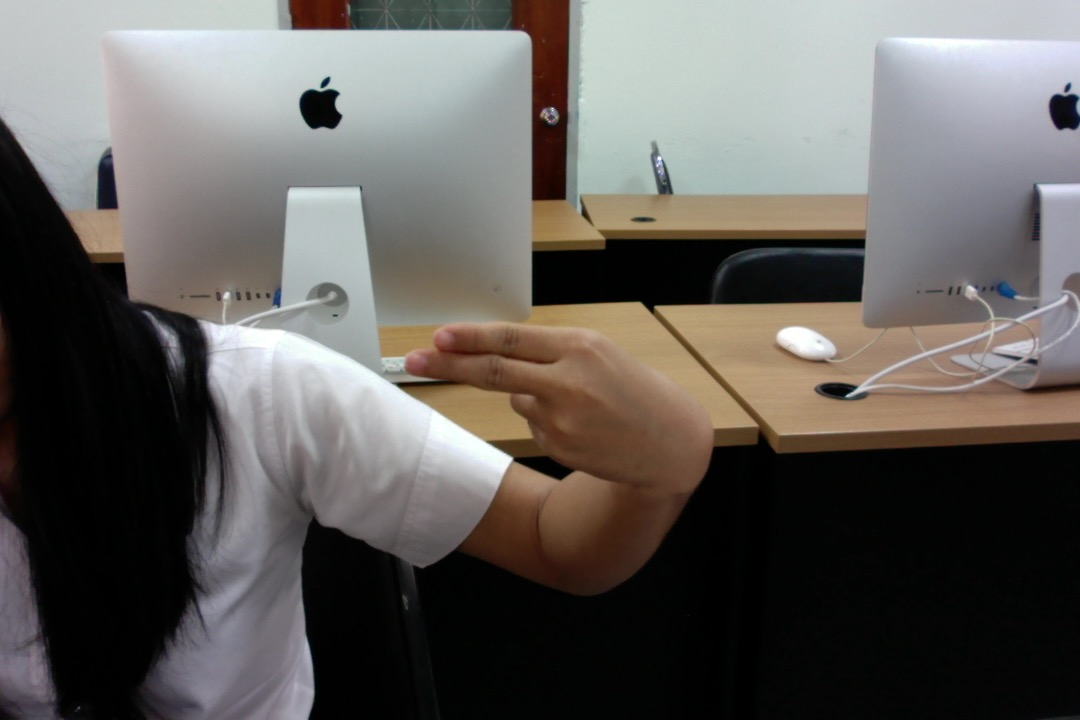hor: (384, 311, 729, 499)
